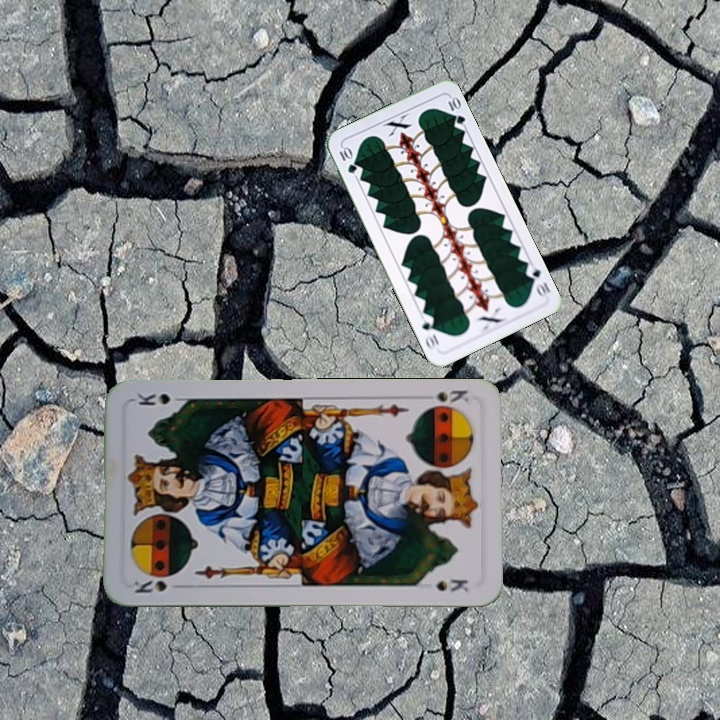G10: (521, 263, 553, 299), (335, 143, 359, 176)
SK: (432, 385, 471, 406), (130, 576, 170, 596)
